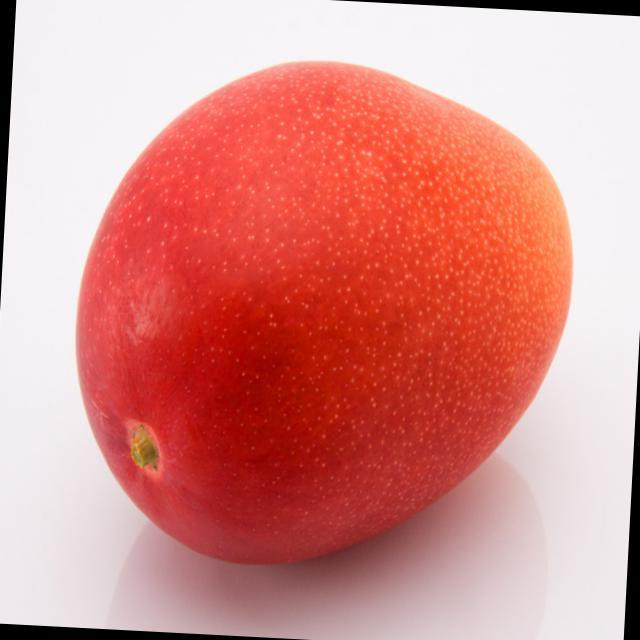mango: (77, 62, 573, 564)
